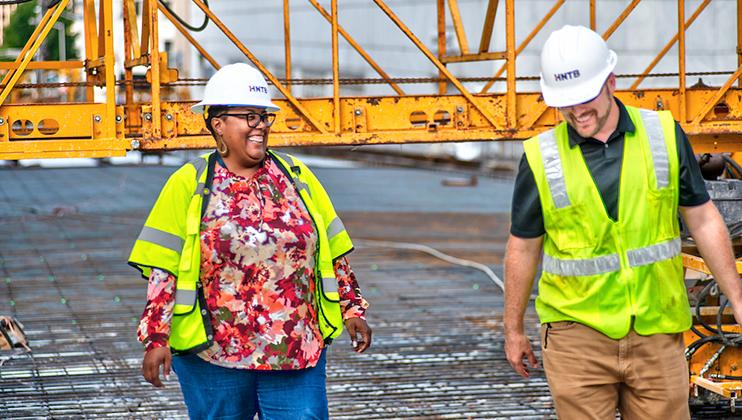helmet: (542, 26, 617, 110), (194, 64, 279, 114)
